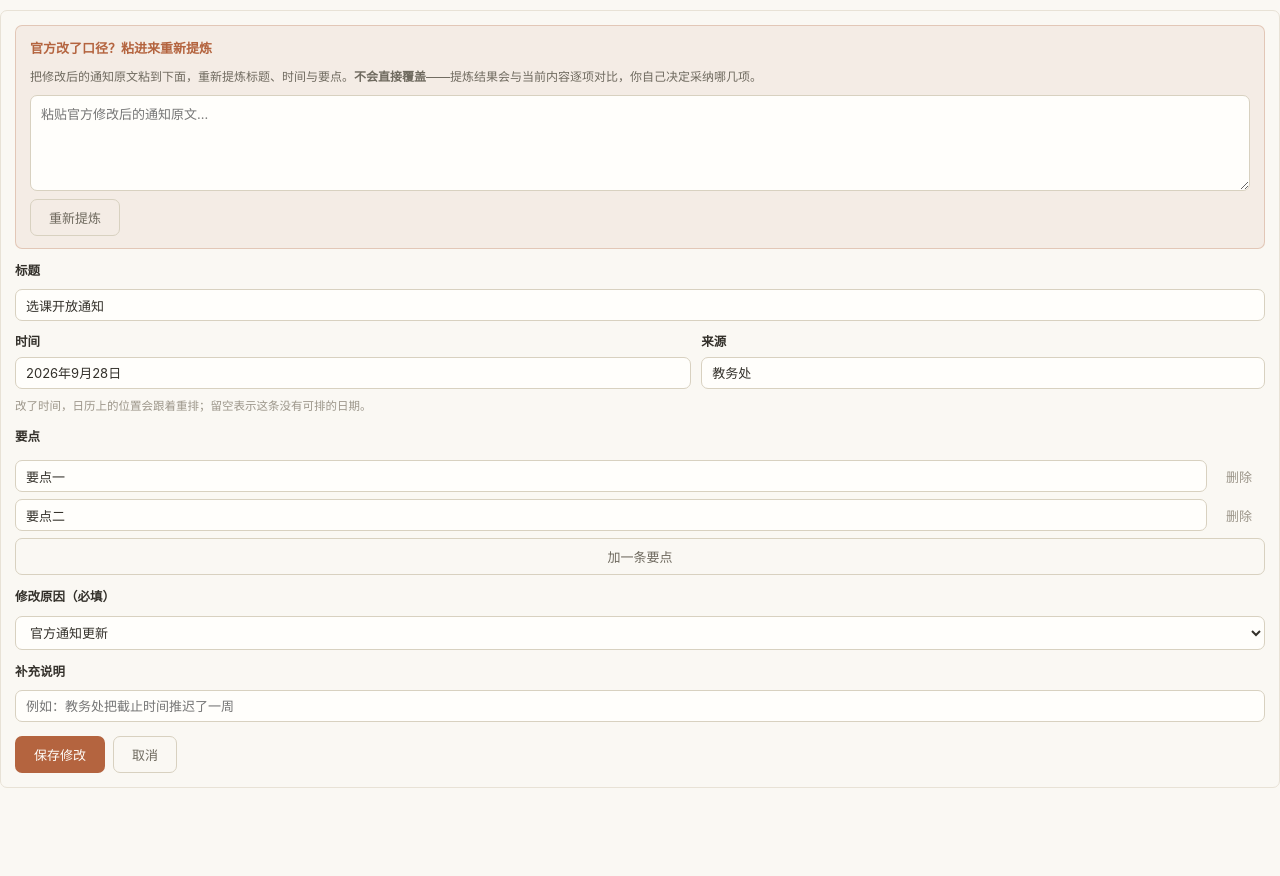
CardEditForm 官方改口径：粘贴原文重新提炼 › 提炼结果不会自动覆盖：不点「采纳」时各字段原样不动
Type "官方新原文" into the text box named "官方修改后的原文" at (640, 143), box [30, 95, 1250, 191]
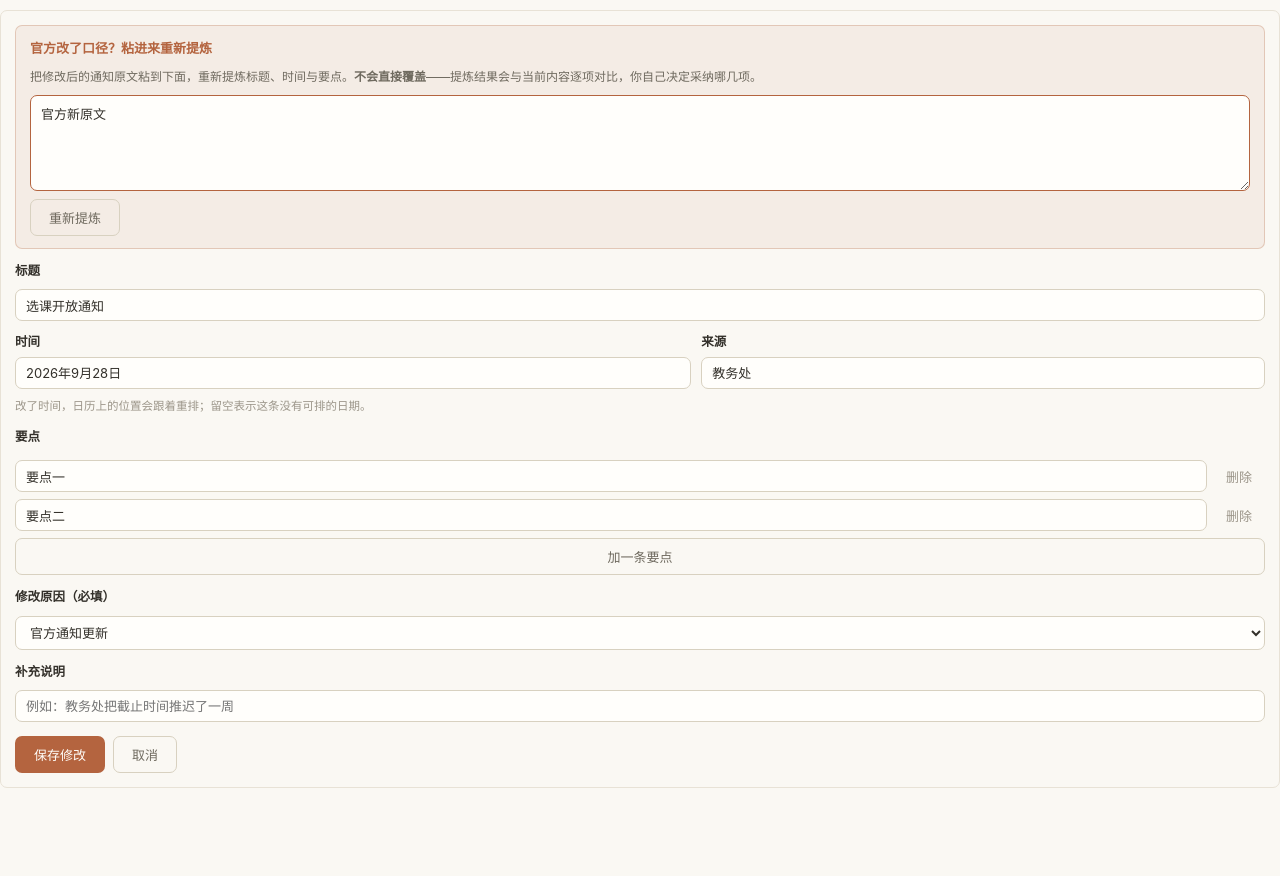
Click the button "重新提炼" at (75, 217), box [30, 199, 120, 236]
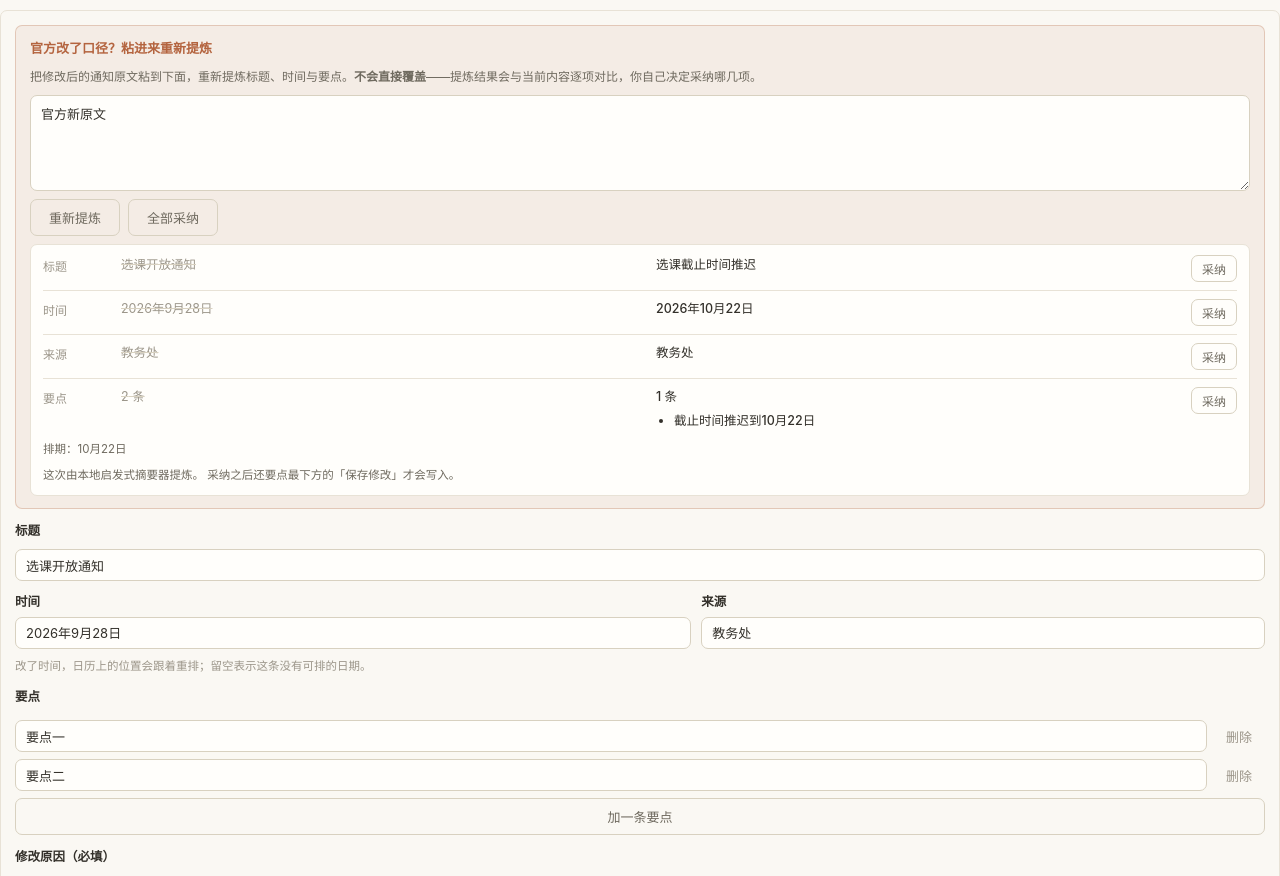
Expected: the field labelled "标题" holds "选课开放通知", [15, 549, 1265, 581]
Expected: the element with test id "re-extract-diff" is shown, [30, 244, 1250, 496]
